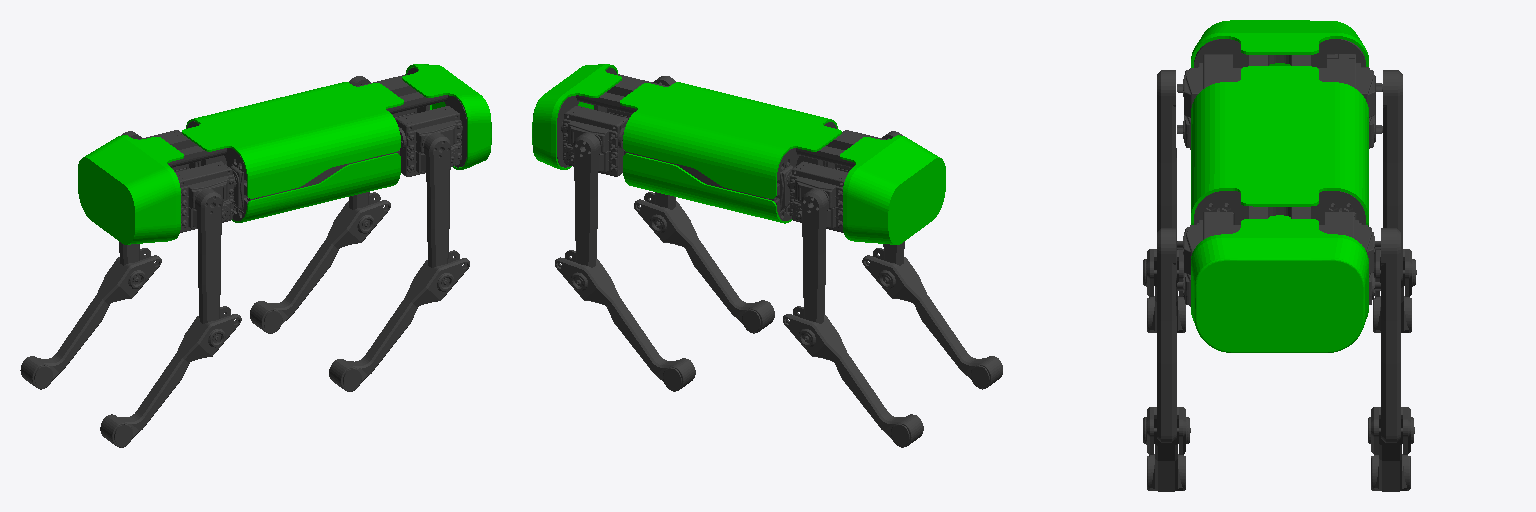
robot.urdf — Dog:
<?xml version="1.0"?>
<robot name="Dog">
	<material name="blue">
		<color rgba="0 0 0.8 1" />
	</material>
	<material name="yellow">
		<color rgba="1 1 0 1" />
	</material>
	<material name="green">
		<color rgba="0 0.85 0 1" />
	</material>
	<material name="black">
		<color rgba="0.3 0.3 0.3 1" />
	</material>
	<material name="grey">
		<color rgba="0.6 0.6 0.5 1" />
	</material>
	<link name="base_link">
		<visual>
			<geometry>
				<mesh filename="meshes/frame.obj" />
			</geometry>
			<origin rpy="0 0 3.141" xyz="0 0 0.0" />
			<material name="black" />
		</visual>
		<inertial>
			<mass value="1.5" />
			<inertia ixx="0.01" ixy="0" ixz="0" iyy="0.01" iyz="0" izz="0.01" />
		</inertial>
	</link>
	<!-- shell -->
	<link name="frame">
		<visual>
			<geometry>
				<mesh filename="meshes/shell.obj" />
			</geometry>
			<origin rpy="0 0 3.141" xyz="0 0 0" />
			<material name="green" />
		</visual>
		<inertial>
			<mass value="0.025" />
			<inertia ixx="5e-05" ixy="0" ixz="0" iyy="5e-05" iyz="0" izz="5e-05" />
		</inertial>
		<collision>
			<geometry>
				<mesh filename="meshes/shell.obj" />
			</geometry>
			<origin rpy="0 0 3.141" xyz="0 0 0.0" />
		</collision>
	</link>
	<joint name="base_to_frame" type="fixed">
		<parent link="base_link" />
		<child link="frame" />
		<origin xyz="0 0 0" />
	</joint>
	<!-- lf shoulder -->
	<link name="lf_shoulder">
		<visual>
			<geometry>
				<mesh filename="meshes/lf_shoulder.obj" />
			</geometry>
			<origin rpy="3.141 3.141 0" xyz="0 0 0" />
			<material name="black" />
		</visual>
		<inertial>
			<mass value="0.025" />
			<inertia ixx="5e-05" ixy="0" ixz="0" iyy="5e-05" iyz="0" izz="5e-05" />
		</inertial>
	</link>
	<joint name="lf_shoulder" type="revolute">
		<parent link="base_link" />
		<child link="lf_shoulder" />
		<origin xyz="0.090 0.037 0" />
		<axis xyz="1 0 0" />
		<limit lower="-0.7854" upper="0.7854" effort="3.0" velocity="10.0" />
	</joint>
	<link name="lf_thigh">
		<visual>
			<geometry>
				<mesh filename="meshes/femur.obj" />
			</geometry>
			<origin rpy="1.5708 0 1.5708" xyz="0 0 0" />
			<material name="black" />
		</visual>
		<inertial>
			<mass value="0.025" />
			<inertia ixx="5e-05" ixy="0" ixz="0" iyy="5e-05" iyz="0" izz="5e-05" />
		</inertial>
	</link>
	<joint name="lf_thigh" type="revolute">
		<parent link="lf_shoulder" />
		<child link="lf_thigh" />
		<origin xyz="0.025 0.027 0 " />
		<axis xyz="0 1 0" />
		<limit lower="-1.5708" upper="0.3491" effort="3.0" velocity="10.0" />
	</joint>
	<link name="lf_shin">
		<visual>
			<geometry>
				<mesh filename="meshes/tibia.obj" />
			</geometry>
			<origin rpy="0.610865 0 -1.5708" xyz="0 0.008 0" />
			<material name="black" />
		</visual>
		<inertial>
			<mass value="0.025" />
			<inertia ixx="5e-05" ixy="0" ixz="0" iyy="5e-05" iyz="0" izz="5e-05" />
		</inertial>
		<collision>
			<geometry>
				<mesh filename="meshes/tibia.obj" />
			</geometry>
			<origin rpy="0.610865 0 -1.5708" xyz="0 0.008 0" />
		</collision>
	</link>
	<joint name="lf_shin" type="revolute">
		<parent link="lf_thigh" />
		<child link="lf_shin" />
		<origin xyz="0 0 -0.130 " />
		<axis xyz="0 1 0" />
		<limit lower="0.2269" upper="1.5708" effort="3.0" velocity="10.0" />
	</joint>
	<!-- rf shoulder -->
	<link name="rf_shoulder">
		<visual>
			<geometry>
				<mesh filename="meshes/rf_shoulder.obj" />
			</geometry>
			<origin rpy="0 0 3.141" xyz="0 0 0" />
			<material name="black" />
		</visual>
		<inertial>
			<mass value="0.025" />
			<inertia ixx="5e-05" ixy="0" ixz="0" iyy="5e-05" iyz="0" izz="5e-05" />
		</inertial>
	</link>
	<joint name="rf_shoulder" type="revolute">
		<parent link="base_link" />
		<child link="rf_shoulder" />
		<origin xyz="0.090 -0.040 0" />
		<axis xyz="1 0 0" />
		<limit lower="-0.7854" upper="0.7854" effort="3.0" velocity="10.0" />
	</joint>
	<link name="rf_thigh">
		<visual>
			<geometry>
				<mesh filename="meshes/femur.obj" />
			</geometry>
			<origin rpy="4.71239 3.141 1.5708" xyz="0 0 0" />
			<material name="black" />
		</visual>
		<inertial>
			<mass value="0.025" />
			<inertia ixx="5e-05" ixy="0" ixz="0" iyy="5e-05" iyz="0" izz="5e-05" />
		</inertial>
	</link>
	<joint name="rf_thigh" type="revolute">
		<parent link="rf_shoulder" />
		<child link="rf_thigh" />
		<origin xyz="0.025 -0.027 0 " />
		<axis xyz="0 1 0" />
		<limit lower="-1.5708" upper="0.3491" effort="3.0" velocity="10.0" />
	</joint>
	<link name="rf_shin">
		<visual>
			<geometry>
				<mesh filename="meshes/tibia.obj" />
			</geometry>
			<origin rpy="0.610865 0 -1.5708" xyz="0 -0.0045 0" />
			<material name="black" />
		</visual>
		<inertial>
			<mass value="0.025" />
			<inertia ixx="5e-05" ixy="0" ixz="0" iyy="5e-05" iyz="0" izz="5e-05" />
		</inertial>
		<collision>
			<geometry>
				<mesh filename="meshes/tibia.obj" />
			</geometry>
			<origin rpy="0.610865 0 -1.5708" xyz="0 -0.007 0" />
		</collision>
	</link>
	<joint name="rf_shin" type="revolute">
		<parent link="rf_thigh" />
		<child link="rf_shin" />
		<origin xyz="0 0 -0.130 " />
		<axis xyz="0 1 0" />
		<limit lower="0.2269" upper="1.5708" effort="3.0" velocity="10.0" />
	</joint>
	<!-- lb shoulder -->
	<link name="lb_shoulder">
		<visual>
			<geometry>
				<mesh filename="meshes/lb_shoulder.obj" />
			</geometry>
			<origin rpy="3.141 3.141 0" xyz="0 0 0" />
			<material name="black" />
		</visual>
		<inertial>
			<mass value="0.025" />
			<inertia ixx="5e-05" ixy="0" ixz="0" iyy="5e-05" iyz="0" izz="5e-05" />
		</inertial>
	</link>
	<joint name="lb_shoulder" type="revolute">
		<parent link="base_link" />
		<child link="lb_shoulder" />
		<origin xyz="-0.081 0.038 0" />
		<axis xyz="1 0 0" />
		<limit lower="-0.7854" upper="0.7854" effort="3.0" velocity="10.0" />
	</joint>
	<link name="lb_thigh">
		<visual>
			<geometry>
				<mesh filename="meshes/femur.obj" />
			</geometry>
			<origin rpy="1.5708 0 1.5708" xyz="0 0 0" />
			<material name="black" />
		</visual>
		<inertial>
			<mass value="0.025" />
			<inertia ixx="5e-05" ixy="0" ixz="0" iyy="5e-05" iyz="0" izz="5e-05" />
		</inertial>
	</link>
	<joint name="lb_thigh" type="revolute">
		<parent link="lb_shoulder" />
		<child link="lb_thigh" />
		<origin xyz="-0.043 0.027 0 " />
		<axis xyz="0 1 0" />
		<limit lower="-1.5708" upper="0.3491" effort="3.0" velocity="10.0" />
	</joint>
	<link name="lb_shin">
		<visual>
			<geometry>
				<mesh filename="meshes/tibia.obj" />
			</geometry>
			<origin rpy="0.610865 0 -1.5708" xyz="0 0.008 0" />
			<material name="black" />
		</visual>
		<inertial>
			<mass value="0.025" />
			<inertia ixx="5e-05" ixy="0" ixz="0" iyy="5e-05" iyz="0" izz="5e-05" />
		</inertial>
		<collision>
			<geometry>
				<mesh filename="meshes/tibia.obj" />
			</geometry>
			<origin rpy="0.610865 0 -1.5708" xyz="0 0.008 0" />
		</collision>
	</link>
	<joint name="lb_shin" type="revolute">
		<parent link="lb_thigh" />
		<child link="lb_shin" />
		<origin xyz="0 0 -0.130 " />
		<axis xyz="0 1 0" />
		<limit lower="0.2269" upper="1.5708" effort="3.0" velocity="10.0" />
	</joint>
	<!-- rb arm -->
	<link name="rb_shoulder">
		<visual>
			<geometry>
				<mesh filename="meshes/rb_shoulder.obj" />
			</geometry>
			<origin rpy="3.141 3.141 0" xyz="0 0 0" />
			<material name="black" />
		</visual>
		<inertial>
			<mass value="0.025" />
			<inertia ixx="5e-05" ixy="0" ixz="0" iyy="5e-05" iyz="0" izz="5e-05" />
		</inertial>
	</link>
	<joint name="rb_shoulder" type="revolute">
		<parent link="base_link" />
		<child link="rb_shoulder" />
		<origin xyz="-0.081 -0.040 0" />
		<axis xyz="1 0 0" />
		<limit lower="-0.7854" upper="0.7854" effort="3.0" velocity="10.0" />
	</joint>
	<link name="rb_thigh">
		<visual>
			<geometry>
				<mesh filename="meshes/femur.obj" />
			</geometry>
			<origin rpy="4.71239 3.141 1.5708" xyz="0 0 0" />
			<material name="black" />
		</visual>
		<inertial>
			<mass value="0.025" />
			<inertia ixx="5e-05" ixy="0" ixz="0" iyy="5e-05" iyz="0" izz="5e-05" />
		</inertial>
	</link>
	<joint name="rb_thigh" type="revolute">
		<parent link="rb_shoulder" />
		<child link="rb_thigh" />
		<origin xyz="-0.043 -0.027 0 " />
		<axis xyz="0 1 0" />
		<limit lower="-1.5708" upper="0.3491" effort="3.0" velocity="10.0" />
	</joint>
	<link name="rb_shin">
		<visual>
			<geometry>
				<mesh filename="meshes/tibia.obj" />
			</geometry>
			<origin rpy="0.610865 0 -1.5708" xyz="0 -0.0045 0" />
			<material name="black" />
		</visual>
		<inertial>
			<mass value="0.025" />
			<inertia ixx="5e-05" ixy="0" ixz="0" iyy="5e-05" iyz="0" izz="5e-05" />
		</inertial>
		<collision>
			<geometry>
				<mesh filename="meshes/tibia.obj" />
			</geometry>
			<origin rpy="0.610865 0 -1.5708" xyz="0 -0.007 0" />
		</collision>
	</link>
	<joint name="rb_shin" type="revolute">
		<parent link="rb_thigh" />
		<child link="rb_shin" />
		<origin xyz="0 0 -0.130 " />
		<axis xyz="0 1 0" />
		<limit lower="0.2269" upper="1.5708" effort="3.0" velocity="10.0" />
	</joint>
</robot>

--- Facts derived from the render (not from the file) ---
3 views of the same robot in one strip: view 1: azimuth 30°, elevation 25°; view 2: azimuth 150°, elevation 25°; view 3: azimuth 270°, elevation 25° (orthographic).
Model Dog with 14 links and 13 joints (12 revolute, 1 fixed), rooted at base_link, posed joints at zero except 4 at the middle of their limits (lf_shin = 0.8989, rf_shin = 0.8989, lb_shin = 0.8989, rb_shin = 0.8989).
Links seen in each view (by area): view 1: frame, lf_shin, rb_shin, rf_shin, lb_shin, base_link, rb_thigh, rf_thigh, rf_shoulder, rb_shoulder; view 2: frame, lb_shin, lf_shin, rb_shin, rf_shin, base_link, lf_thigh, lb_thigh, lf_shoulder, lb_shoulder; view 3: frame, base_link, lf_thigh, rf_thigh, lb_thigh, rb_thigh, lf_shin, rf_shin, rb_shoulder, lb_shoulder, rf_shoulder, lf_shoulder (+2 smaller).
Link boxes in pixels (x1=…): frame: x1=78, y1=64, x2=491, y2=244; lf_shin: x1=250, y1=192, x2=390, y2=333; rb_shin: x1=100, y1=306, x2=241, y2=447; rf_shin: x1=329, y1=250, x2=469, y2=391; lb_shin: x1=20, y1=248, x2=161, y2=389; base_link: x1=164, y1=67, x2=466, y2=220; rb_thigh: x1=195, y1=188, x2=222, y2=323; rf_thigh: x1=424, y1=133, x2=450, y2=267; rf_shoulder: x1=396, y1=106, x2=461, y2=176; rb_shoulder: x1=175, y1=161, x2=235, y2=232; frame: x1=532, y1=64, x2=945, y2=244; lb_shin: x1=783, y1=306, x2=923, y2=447; lf_shin: x1=555, y1=250, x2=695, y2=391; rb_shin: x1=862, y1=248, x2=1002, y2=389; rf_shin: x1=634, y1=192, x2=774, y2=333; base_link: x1=557, y1=67, x2=859, y2=220; lf_thigh: x1=573, y1=132, x2=600, y2=267; lb_thigh: x1=801, y1=189, x2=828, y2=323; lf_shoulder: x1=563, y1=106, x2=627, y2=176; lb_shoulder: x1=788, y1=161, x2=848, y2=232; frame: x1=1191, y1=20, x2=1368, y2=352; base_link: x1=1194, y1=39, x2=1365, y2=224; lf_thigh: x1=1381, y1=228, x2=1400, y2=442; rf_thigh: x1=1157, y1=228, x2=1176, y2=442; lb_thigh: x1=1383, y1=70, x2=1402, y2=281; rb_thigh: x1=1157, y1=70, x2=1176, y2=280; lf_shin: x1=1368, y1=407, x2=1414, y2=491; rf_shin: x1=1143, y1=407, x2=1190, y2=491; rb_shoulder: x1=1177, y1=54, x2=1241, y2=149; lb_shoulder: x1=1318, y1=54, x2=1382, y2=148; rf_shoulder: x1=1177, y1=212, x2=1240, y2=306; lf_shoulder: x1=1319, y1=212, x2=1380, y2=304.
Bounding box of the posed robot: 0.4138 × 0.1749 × 0.2442 m (x, y, z).
Meshes: 8 distinct files referenced, 14 mesh visuals loaded (8 OBJ).
